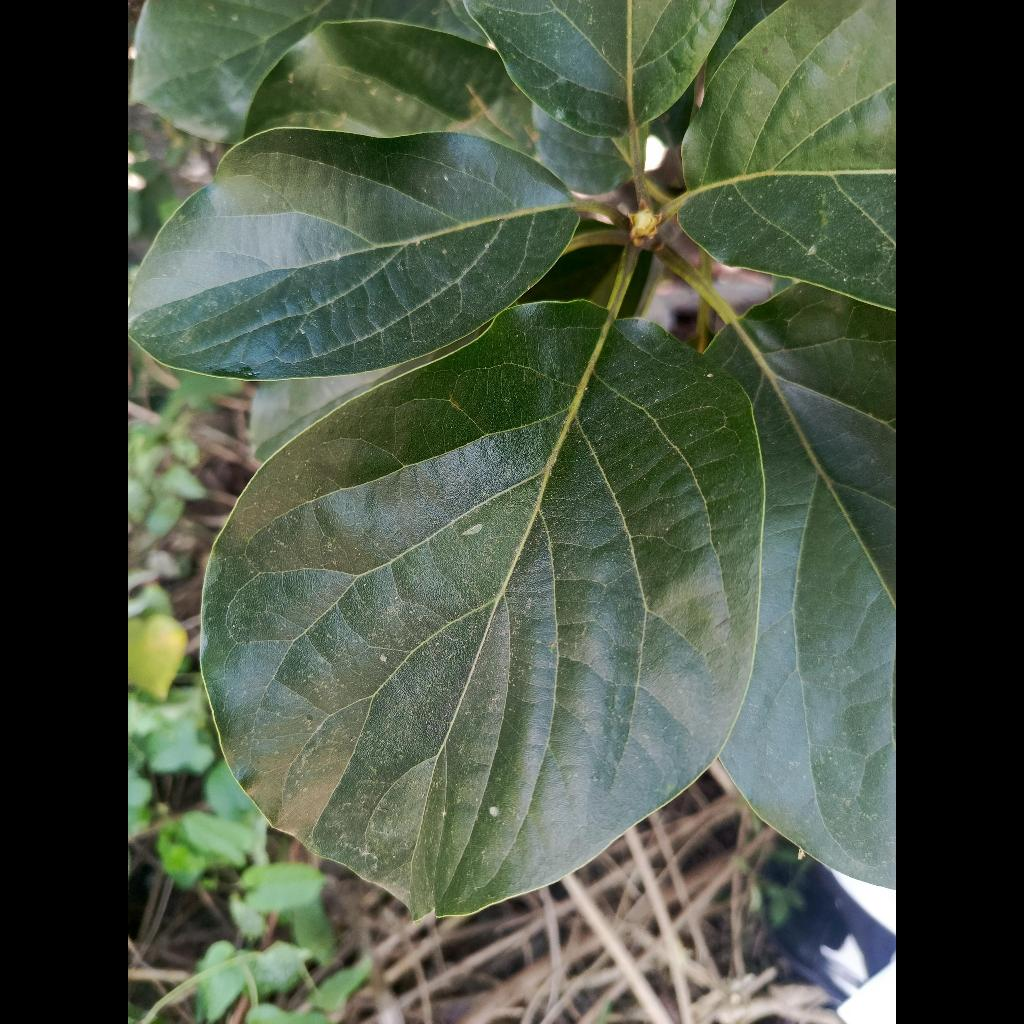Healthy: (203, 302, 763, 917)
